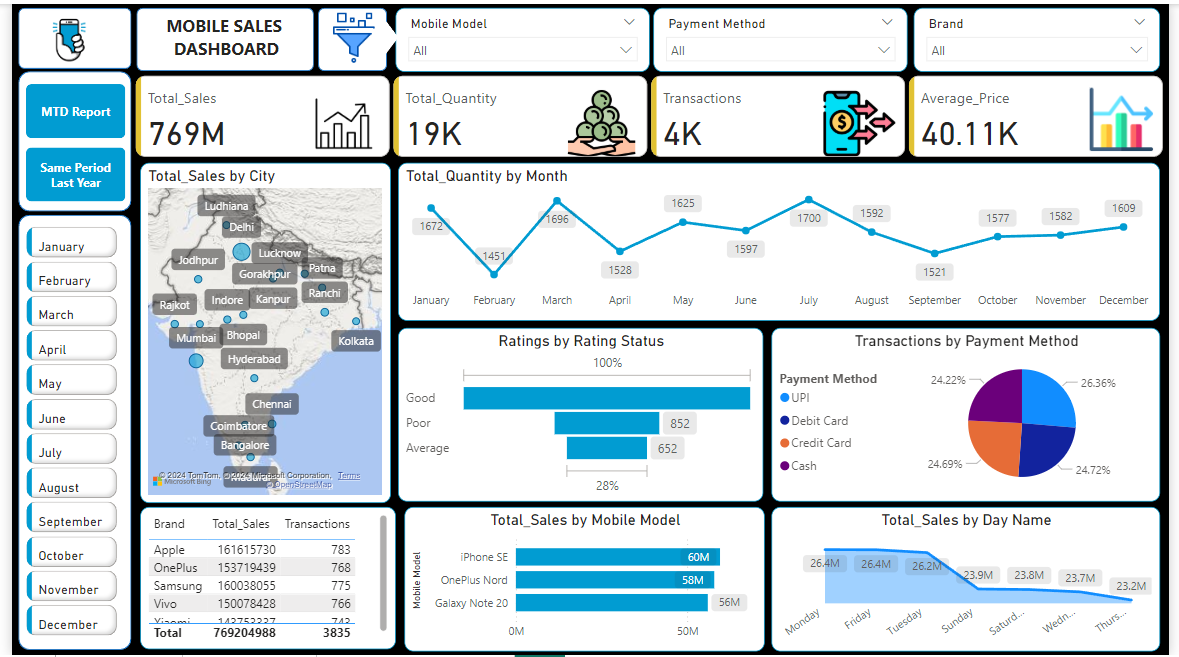

What the dashboard file says about the page in this screenshot:
{"tool":"powerbi","page":{"name":"Dashboard","canvas":[1280,720],"ordinal":0},"visuals":[{"type":"shape","box":[7.5,3.8,125,67.5],"z":0},{"type":"image","box":[23.8,3.8,78.8,71.2],"z":1000},{"type":"shape","box":[7.5,73.8,125,155],"z":2000},{"type":"shape","box":[7.5,232.5,125,481.2],"z":3000},{"type":"advancedSlicerVisual","fields":{"Values":["Custom_Calendar.Date.Variation.Date Hierarchy.Month"]},"box":[11.2,241.2,110,472.5],"z":4000},{"type":"cardVisual","fields":{"Data":["Sales_Data.Total_Sales","Sales_Data.Total_Quantity","Sales_Data.Transactions","Sales_Data.Average_Price"]},"box":[132.5,73.8,1147.5,100],"z":5000},{"type":"slicer","fields":{"Values":["Sales_Data.Mobile Model"]},"box":[423.8,3.8,281.2,71.2],"z":6000},{"type":"slicer","fields":{"Values":["Sales_Data.Payment Method"]},"box":[710,3.8,281.2,71.2],"z":7000},{"type":"slicer","fields":{"Values":["Sales_Data.Brand"]},"box":[997.5,3.8,272.5,71.2],"z":8000},{"type":"shape","box":[338.8,3.8,76.2,70],"z":9000},{"type":"image","box":[337.5,3.8,81.2,66.2],"z":10000},{"type":"shape","box":[397.5,17.5,30,40],"z":11000},{"type":"shape","box":[137.5,3.8,196.2,70],"z":12000},{"type":"textbox","box":[156.2,6.2,162.5,63.8],"z":13000},{"type":"map","fields":{"Category":["Sales_Data.City"],"Size":["Sales_Data.Total_Sales"]},"box":[141.2,175,277.5,376.2],"z":14000},{"type":"lineChart","fields":{"Y":["Sales_Data.Total_Quantity"],"Category":["Custom_Calendar.Date.Variation.Date Hierarchy.Month"]},"box":[427.5,175,842.5,175],"z":15000},{"type":"funnel","title":"Ratings by Rating Status","fields":{"Y":["Sum(Sales_Data.Customer Ratings)"],"Category":["Sales_Data.Rating Status"]},"box":[427.5,358.8,403.8,192.5],"z":16000},{"type":"pieChart","fields":{"Y":["Sales_Data.Transactions"],"Category":["Sales_Data.Payment Method"]},"box":[840,358.8,430,192.5],"z":17000},{"type":"clusteredBarChart","fields":{"Y":["Sales_Data.Total_Sales"],"Category":["Sales_Data.Mobile Model"]},"box":[433.8,556.2,398.8,160],"z":18000},{"type":"areaChart","fields":{"Y":["Sales_Data.Total_Sales"],"Category":["Custom_Calendar.Day Name"]},"box":[840,556.2,430,160],"z":19000},{"type":"tableEx","fields":{"Values":["Sales_Data.Brand","Sales_Data.Total_Sales","Sales_Data.Transactions"]},"box":[141.2,556.2,282.5,157.5],"z":20000},{"type":"pageNavigator","box":[15,88.8,110,130],"z":21000}]}

Visuals, with their boxes in screenshot pixels (x1, y1, x2, y2), scaled from the page's 1280x720 canvas onto the 1179x657 screenshot:
shape: <region>7, 3, 122, 65</region>
image: <region>22, 3, 95, 68</region>
shape: <region>7, 67, 122, 209</region>
shape: <region>7, 212, 122, 651</region>
advancedSlicerVisual - Custom_Calendar.Date.Variation.Date Hierarchy.Month: <region>10, 220, 112, 651</region>
cardVisual - Sales_Data.Total_Sales x Sales_Data.Total_Quantity: <region>122, 67, 1178, 159</region>
slicer - Sales_Data.Mobile Model: <region>390, 3, 649, 68</region>
slicer - Sales_Data.Payment Method: <region>654, 3, 913, 68</region>
slicer - Sales_Data.Brand: <region>919, 3, 1170, 68</region>
shape: <region>312, 3, 382, 67</region>
image: <region>311, 3, 386, 64</region>
shape: <region>366, 16, 394, 52</region>
shape: <region>127, 3, 307, 67</region>
textbox: <region>144, 6, 294, 64</region>
map - Sales_Data.City x Sales_Data.Total_Sales: <region>130, 160, 386, 503</region>
lineChart - Sales_Data.Total_Quantity x Custom_Calendar.Date.Variation.Date Hierarchy.Month: <region>394, 160, 1170, 319</region>
"Ratings by Rating Status" funnel: <region>394, 327, 766, 503</region>
pieChart - Sales_Data.Transactions x Sales_Data.Payment Method: <region>774, 327, 1170, 503</region>
clusteredBarChart - Sales_Data.Total_Sales x Sales_Data.Mobile Model: <region>400, 508, 767, 654</region>
areaChart - Sales_Data.Total_Sales x Custom_Calendar.Day Name: <region>774, 508, 1170, 654</region>
tableEx - Sales_Data.Brand x Sales_Data.Total_Sales: <region>130, 508, 390, 651</region>
pageNavigator: <region>14, 81, 115, 200</region>
